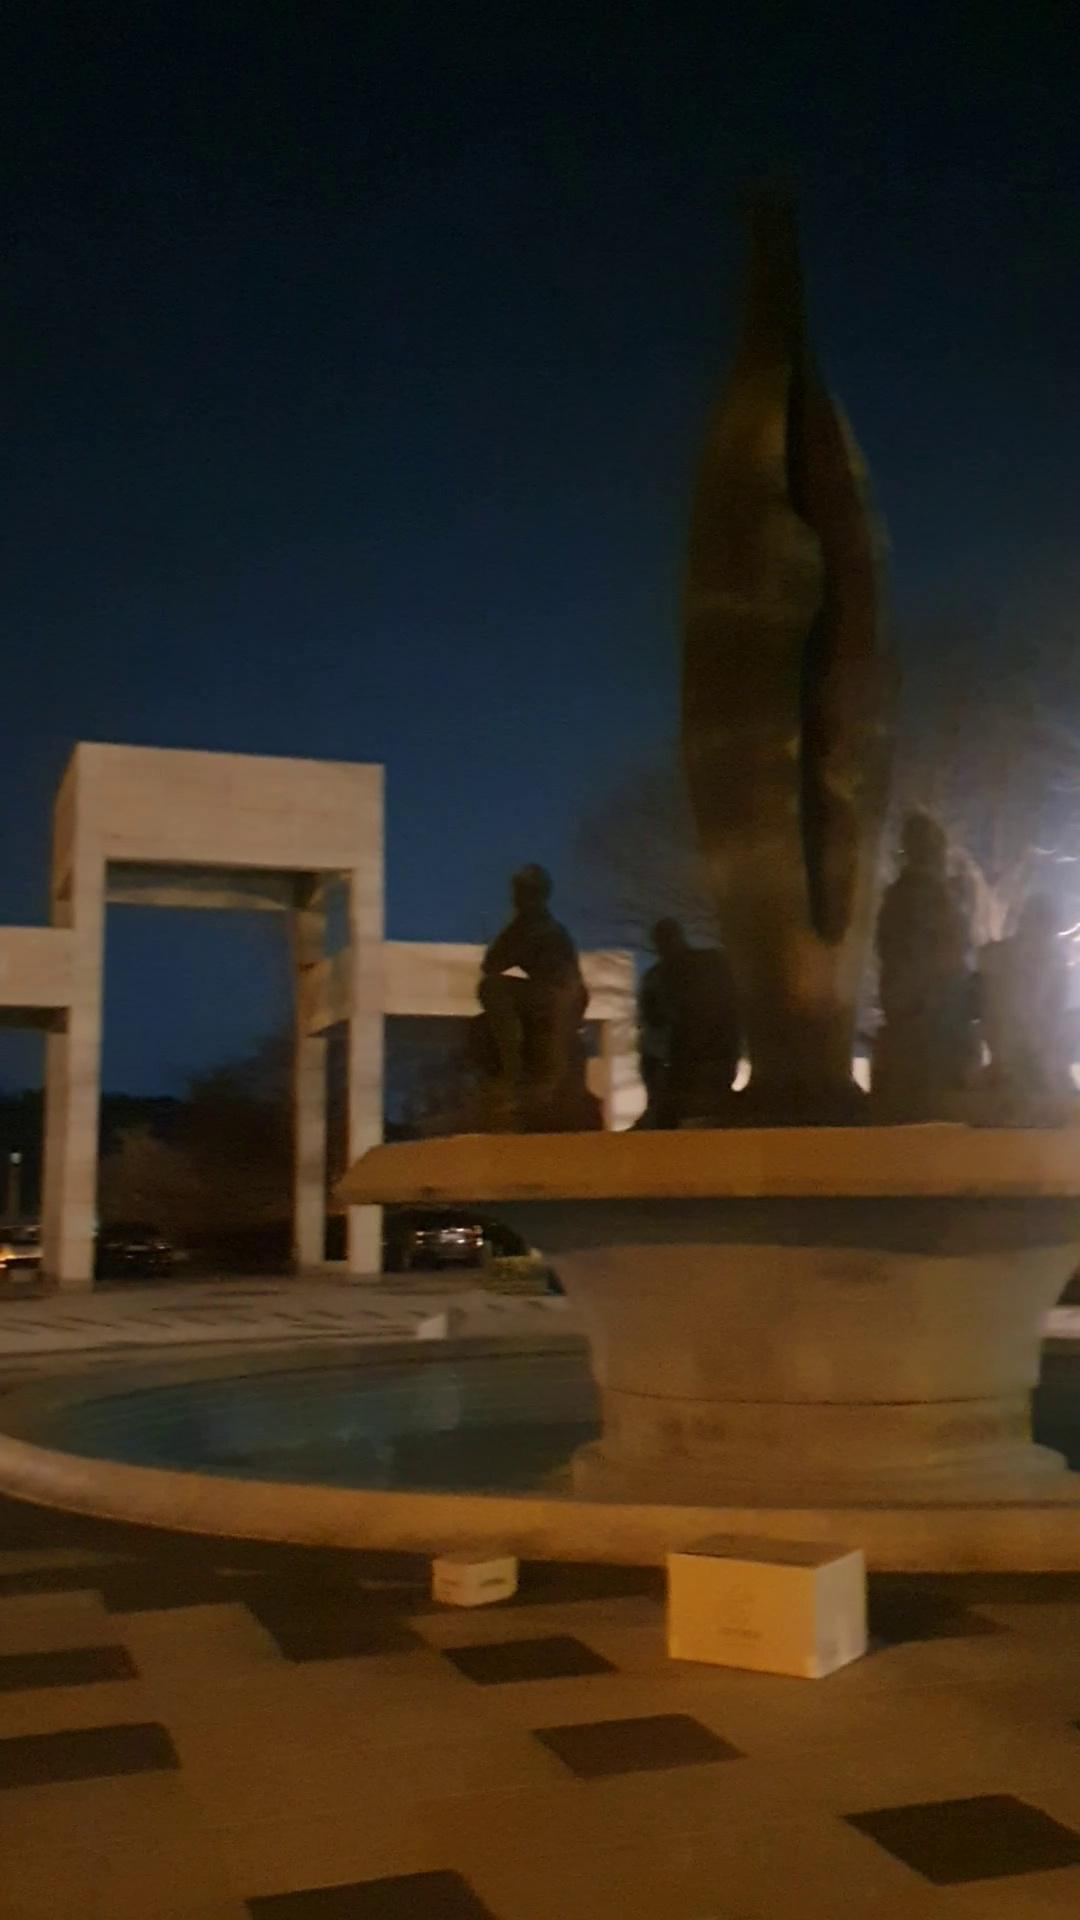Box: (653, 1518, 894, 1705), (407, 1535, 517, 1619)
